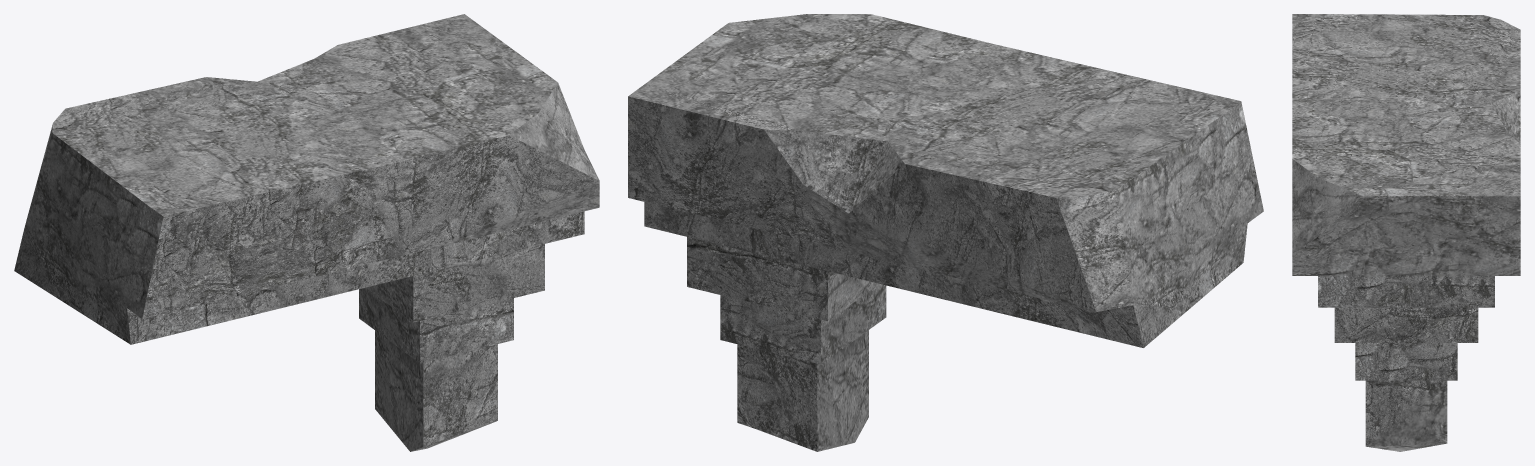
The model's file is materials_3_rubble_23.fbx.
3 views of the same model, side by side, from view 1: azimuth 30°, elevation 25°; view 2: azimuth 150°, elevation 25°; view 3: azimuth 270°, elevation 25° (orthographic). The views are drawn at different scales.
Parts seen in each view (by area): view 1: materials_3_rubble_23; view 2: materials_3_rubble_23; view 3: materials_3_rubble_23.
Boxes of the visible parts, box(x1,y1,x2,y2) form: materials_3_rubble_23: box(14, 14, 599, 451); materials_3_rubble_23: box(628, 14, 1263, 451); materials_3_rubble_23: box(1292, 14, 1520, 451).
Bounding box in the file's own units: 152 × 112 × 76.69.
